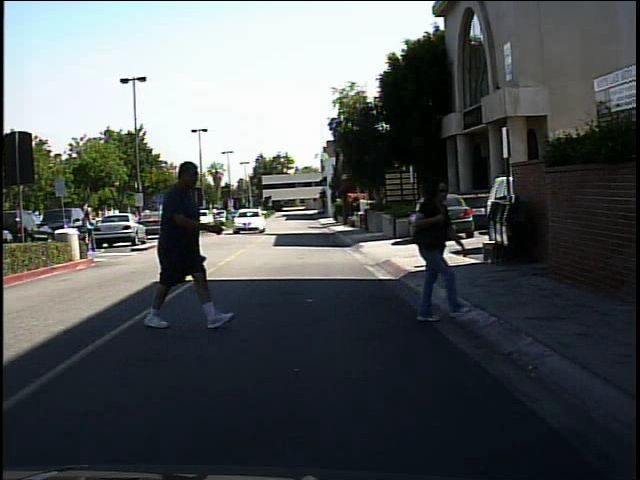person: (131, 157, 232, 333), (400, 166, 475, 324), (77, 203, 98, 259)
